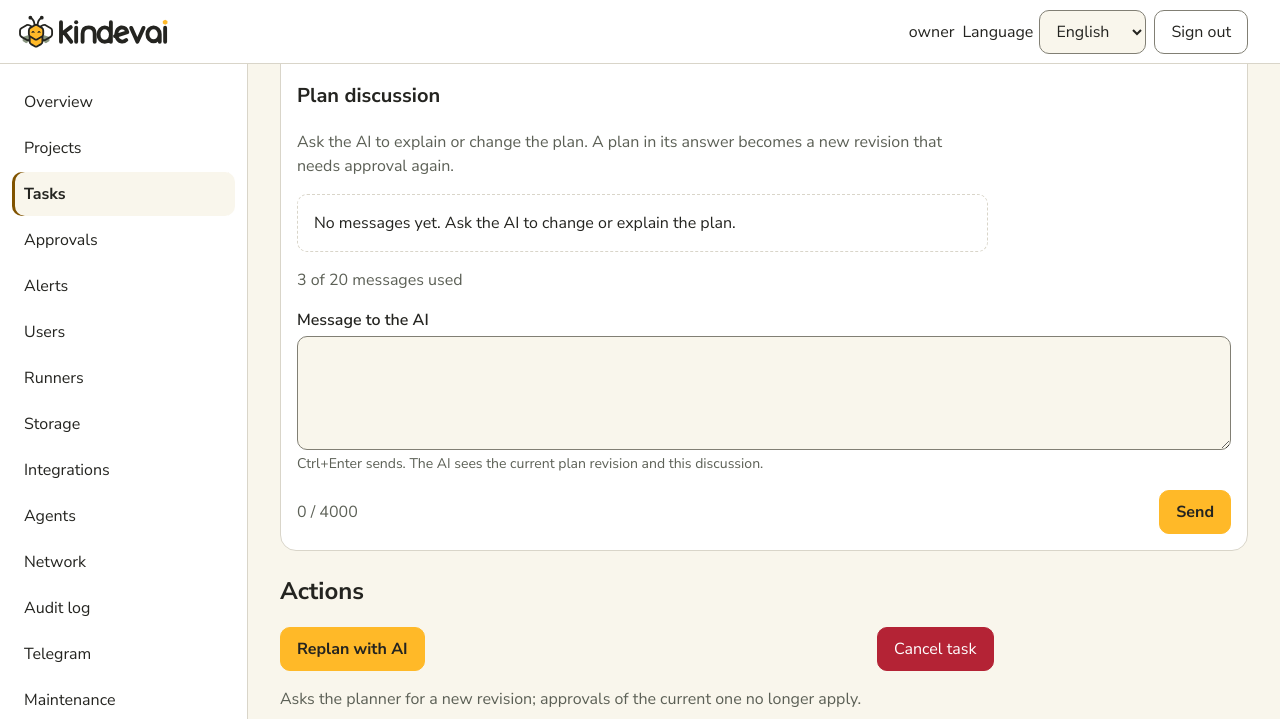
plan discussion on the task page › shows a limit that refused the message with its reason and when to continue, keeping the text
The image size is (1280, 719).
(page scrolled)
Click the text box labelled "Message to the AI".
click(764, 393)  # box x1=297 y1=336 x2=1231 y2=450
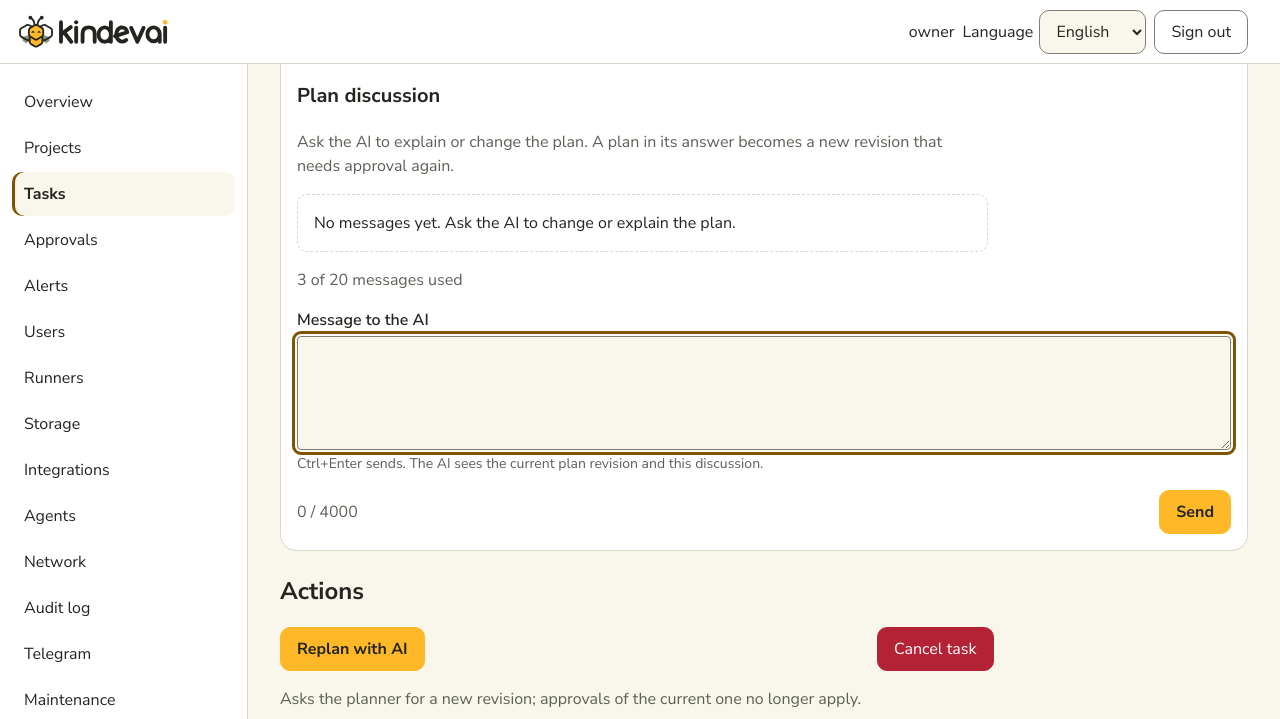
Type keys "One more idea"
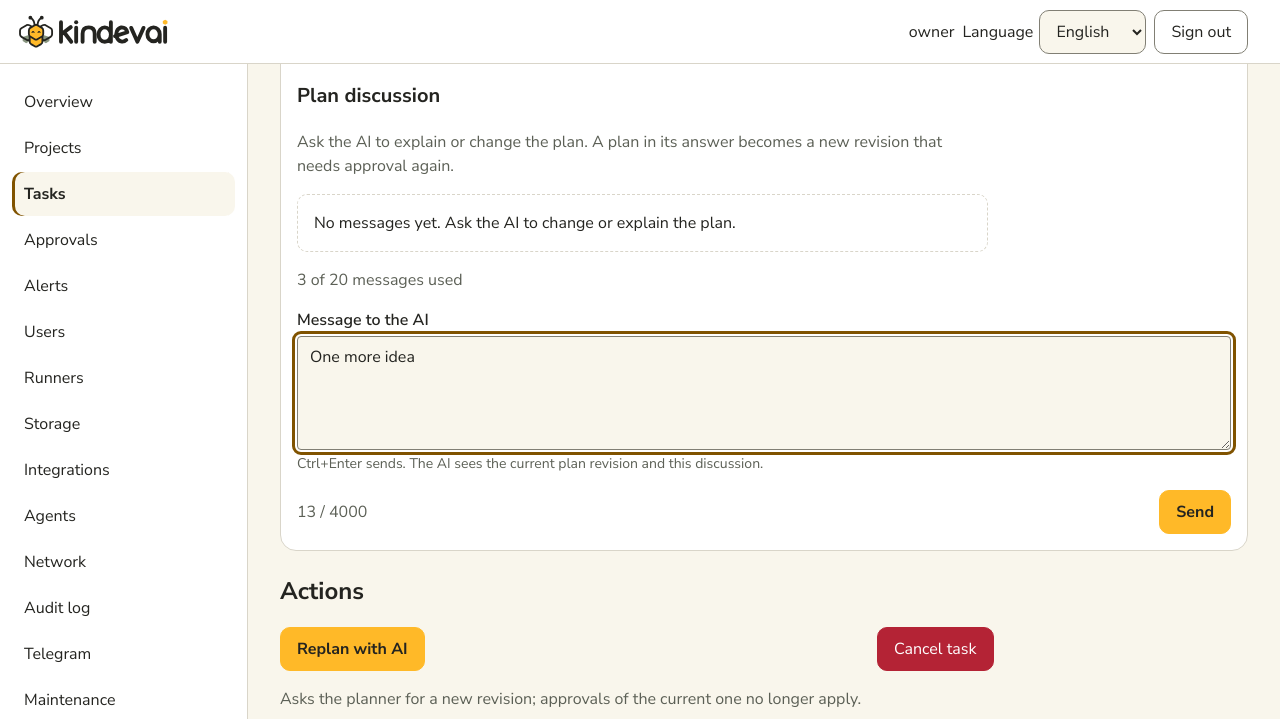
Click the button "Send".
click(1195, 512)  # box x1=1159 y1=490 x2=1231 y2=534
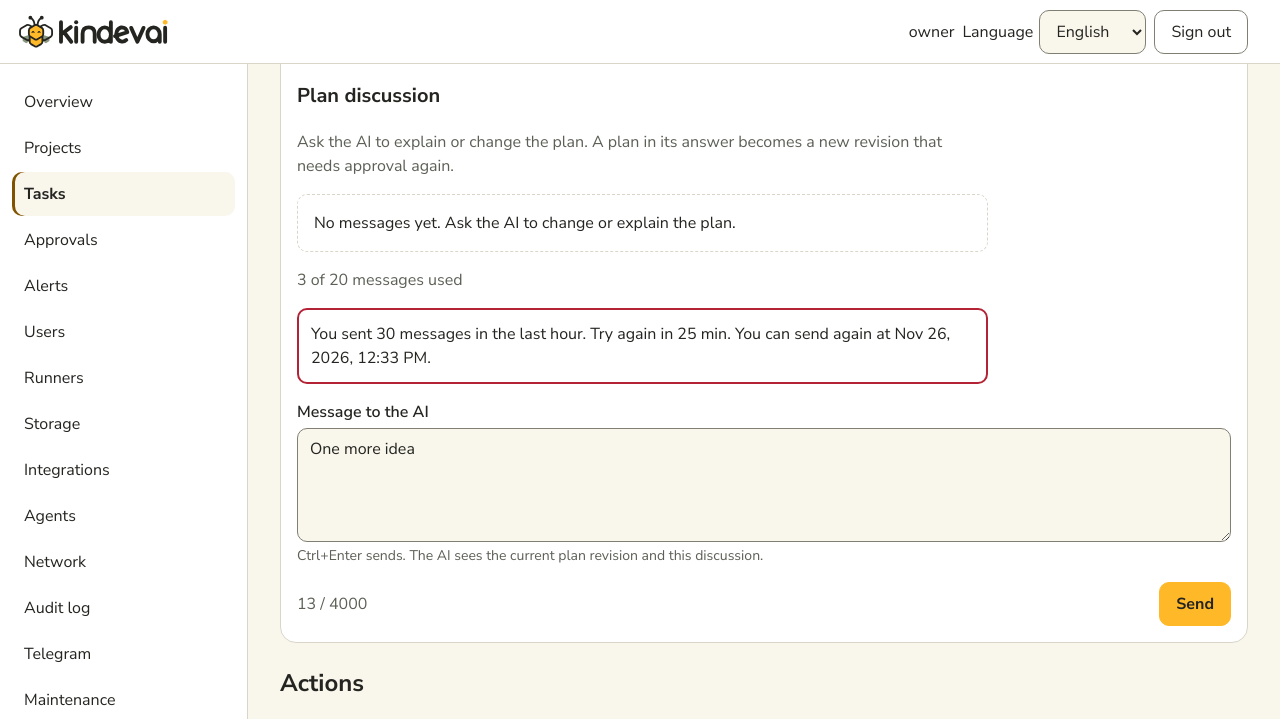
Now the text box labelled "Message to the AI" holds "One more idea", box x1=297 y1=428 x2=1231 y2=542
Now the message shows "You sent 30 messages in the last hour. Try again in 25 min.", box x1=311 y1=323 x2=731 y2=345
Now the message shows "You can send again at", box x1=311 y1=323 x2=950 y2=369
